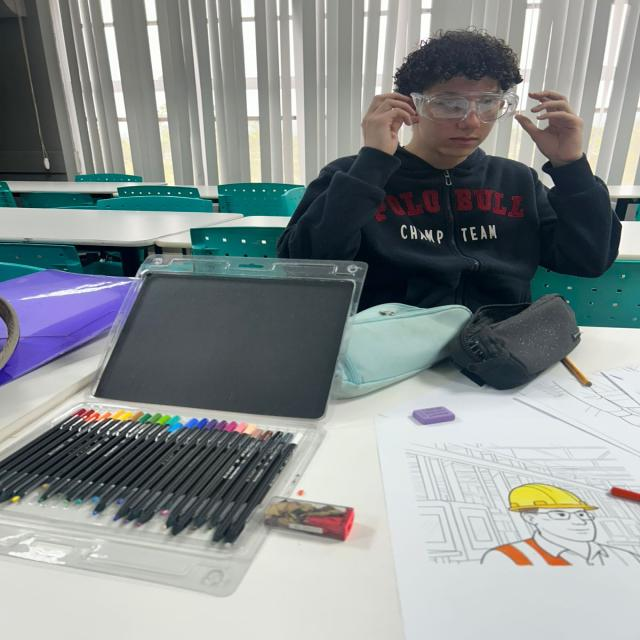oculos-epi: (412, 92, 519, 124)
